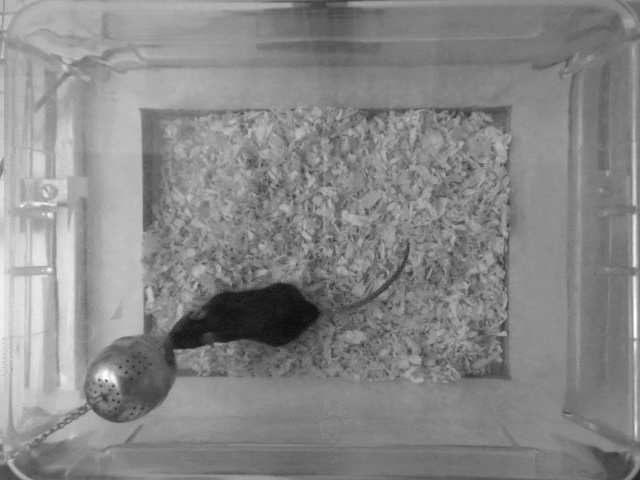mice: (160, 233, 415, 359)
